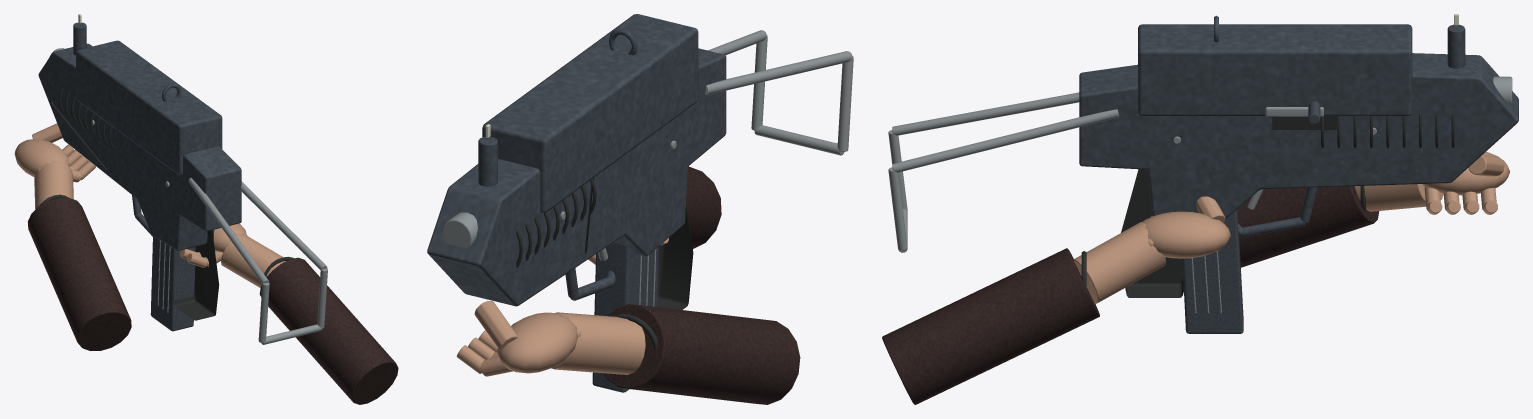
File: uzi.glb
3 views of the same model, side by side, from view 1: azimuth 30°, elevation 25°; view 2: azimuth 150°, elevation 25°; view 3: azimuth 270°, elevation 25° (orthographic). The views are drawn at different scales.
Visible parts, largest first — view 1: uzi__BODY, uzi__HAND_L, uzi__HAND_R, uzi__MAGAZINE; view 2: uzi__BODY, uzi__HAND_L, uzi__MAGAZINE, uzi__HAND_R; view 3: uzi__BODY, uzi__HAND_R, uzi__HAND_L, uzi__MAGAZINE, uzi__BOLT.
Boxes of the visible parts, <box> form: uzi__BODY: <box>38,14,327,344</box>; uzi__HAND_L: <box>14,123,131,350</box>; uzi__HAND_R: <box>179,223,398,404</box>; uzi__MAGAZINE: <box>150,236,195,331</box>; uzi__BODY: <box>427,14,853,309</box>; uzi__HAND_L: <box>456,301,800,404</box>; uzi__MAGAZINE: <box>592,243,658,392</box>; uzi__HAND_R: <box>588,166,721,264</box>; uzi__BODY: <box>888,14,1518,297</box>; uzi__HAND_R: <box>882,196,1230,404</box>; uzi__HAND_L: <box>1237,152,1509,267</box>; uzi__MAGAZINE: <box>1182,209,1243,333</box>; uzi__BOLT: <box>1265,101,1323,124</box>.
Size of the model in its own units: 0.3294 by 0.3781 by 0.6501.
6 materials, 2 textured.
